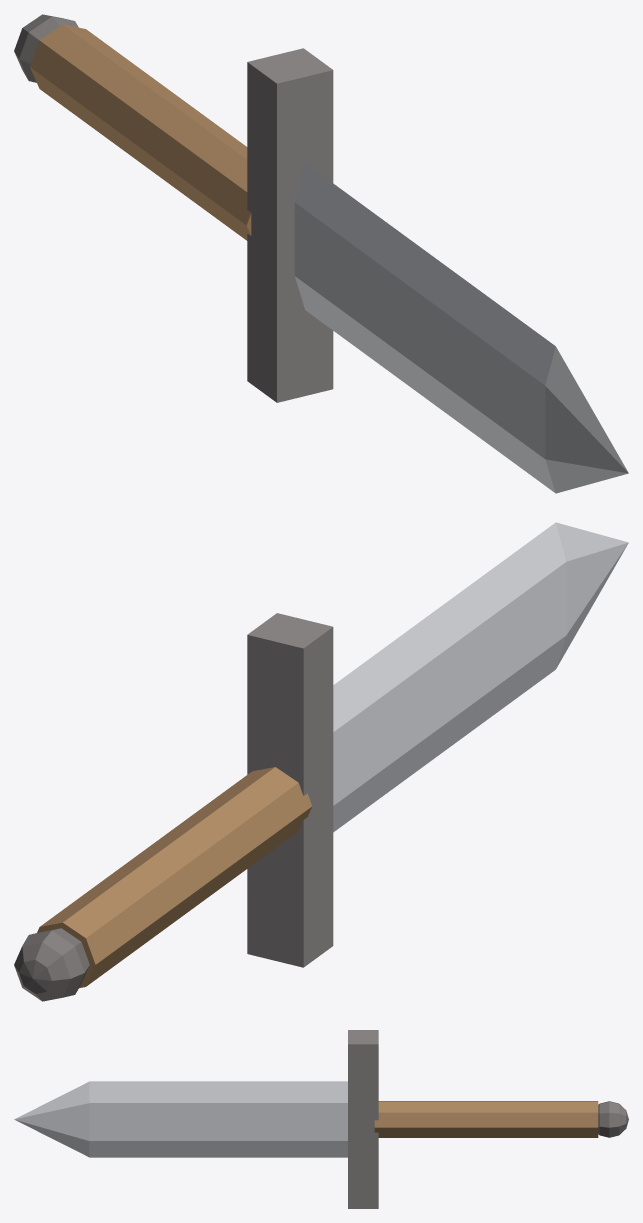
The model's file is WPN_sword_placeholder.fbx.
The picture shows the model from 3 angles, top to bottom: view 1: azimuth 30°, elevation 25°; view 2: azimuth 150°, elevation 25°; view 3: azimuth 270°, elevation 25°; orthographic projection. The views are drawn at different scales.
Visible parts, largest first — view 1: WPN_sword_placeholder; view 2: WPN_sword_placeholder; view 3: WPN_sword_placeholder.
Boxes of the visible parts, x1,y1,x2,y2 form: WPN_sword_placeholder: [14, 14, 628, 493]; WPN_sword_placeholder: [14, 522, 628, 1001]; WPN_sword_placeholder: [14, 1030, 628, 1208].
Size of the model in its own units: 0.028 by 0.13 by 0.44.
